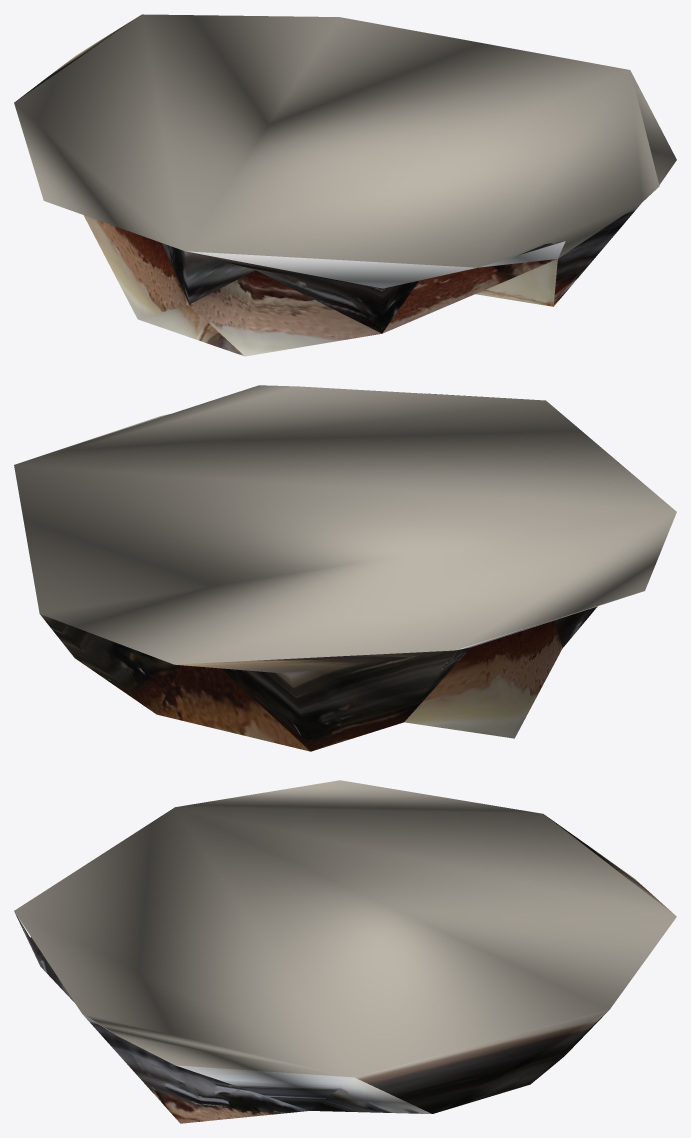
File: cake_66.obj
The picture shows the model from 3 angles, top to bottom: view 1: azimuth 30°, elevation 25°; view 2: azimuth 150°, elevation 25°; view 3: azimuth 270°, elevation 25°; orthographic projection. The views are drawn at different scales.
Size of the model in its own units: 0.181 by 0.0469 by 0.1822.
1 material, 1 textured.
